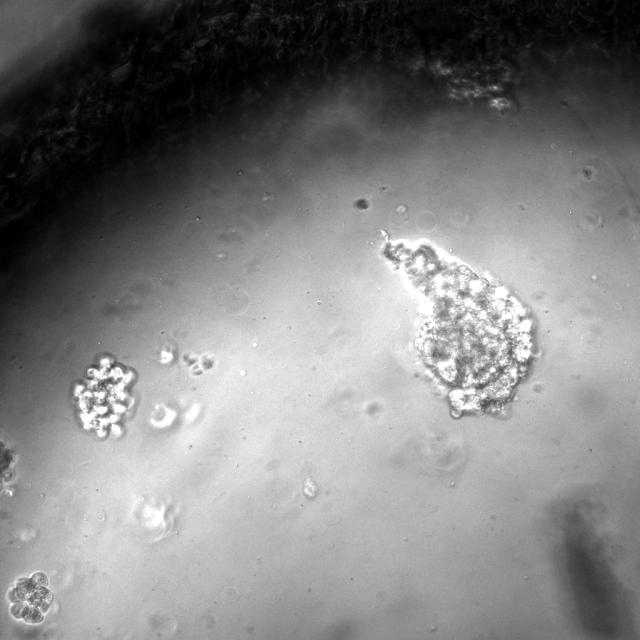organoid: (381, 232, 532, 416), (389, 51, 516, 111), (71, 354, 136, 438), (11, 571, 53, 624), (0, 438, 16, 496)
